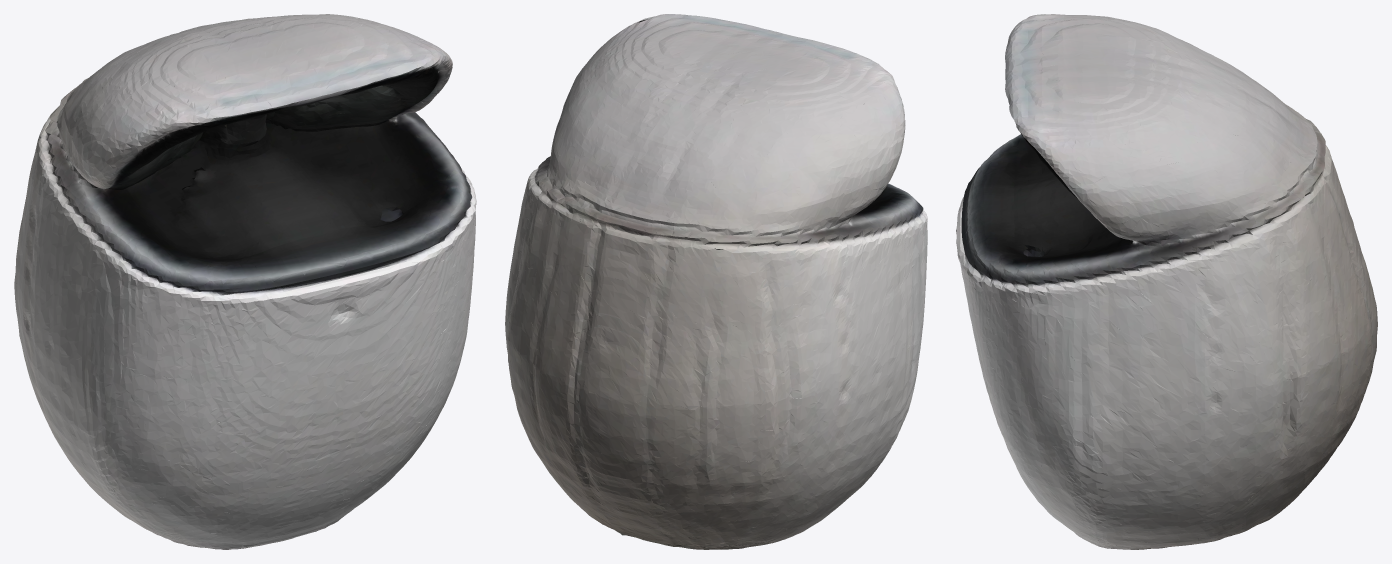
File: pixel-buds-2-pro.glb
The picture shows the model from 3 angles, left to right: view 1: azimuth 30°, elevation 25°; view 2: azimuth 150°, elevation 25°; view 3: azimuth 270°, elevation 25°; orthographic projection. The views are drawn at different scales.
Parts seen in each view (by area): view 1: geometry_0; view 2: geometry_0; view 3: geometry_0.
Boxes of the visible parts, <box> form: geometry_0: <box>14,14,476,549</box>; geometry_0: <box>505,14,927,549</box>; geometry_0: <box>956,14,1377,549</box>.
Bounding box in the file's own units: 0.8094 × 1.01 × 0.8466.
1 material, 1 textured.
